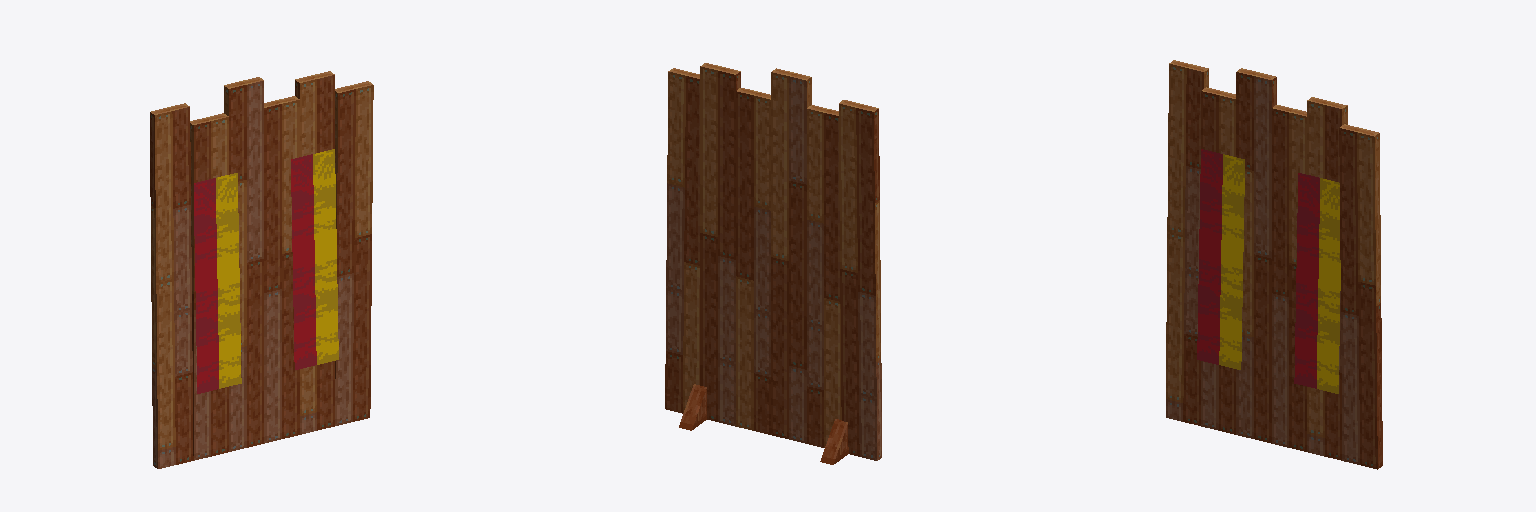
3 renders of one model, left to right at view 1: azimuth 30°, elevation 25°; view 2: azimuth 150°, elevation 25°; view 3: azimuth 330°, elevation 25°, orthographic.
Parts seen in each view (by area): view 1: cuboid, plane; view 2: cuboid; view 3: cuboid, plane.
Part boxes in pixels (bbox=[...]): cuboid: bbox=[150, 71, 373, 468]; plane: bbox=[194, 149, 338, 393]; cuboid: bbox=[665, 63, 881, 464]; cuboid: bbox=[1166, 60, 1382, 469]; plane: bbox=[1197, 149, 1340, 393].
Bounding box in the file's own units: 6 × 9.81 × 1.19.
Materials: 1 (1 with a texture image).